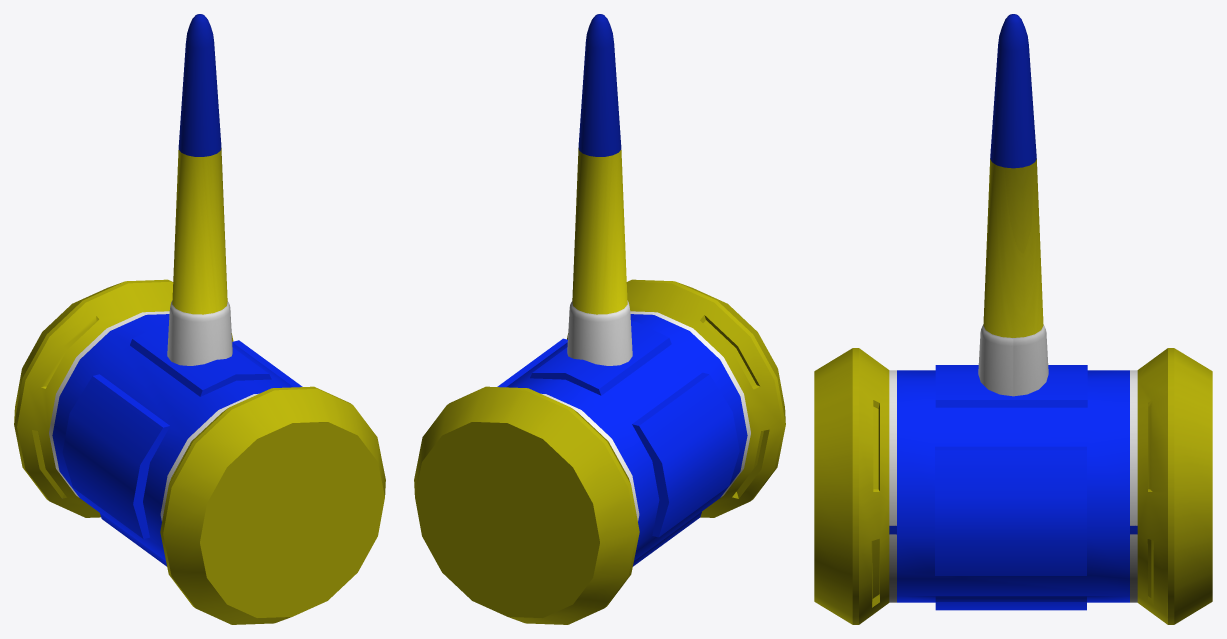
The model's file is Hammer.fbx.
The picture shows the model from 3 angles, left to right: view 1: azimuth 30°, elevation 25°; view 2: azimuth 150°, elevation 25°; view 3: azimuth 270°, elevation 25°; orthographic projection. The views are drawn at different scales.
Parts seen in each view (by area): view 1: Hammer; view 2: Hammer; view 3: Hammer.
Part boxes in pixels (x1=…): Hammer: x1=14, y1=14, x2=385, y2=624; Hammer: x1=414, y1=14, x2=785, y2=624; Hammer: x1=814, y1=14, x2=1212, y2=624.
Bounding box in the file's own units: 238 × 566 × 342.
1 material, 1 textured.
